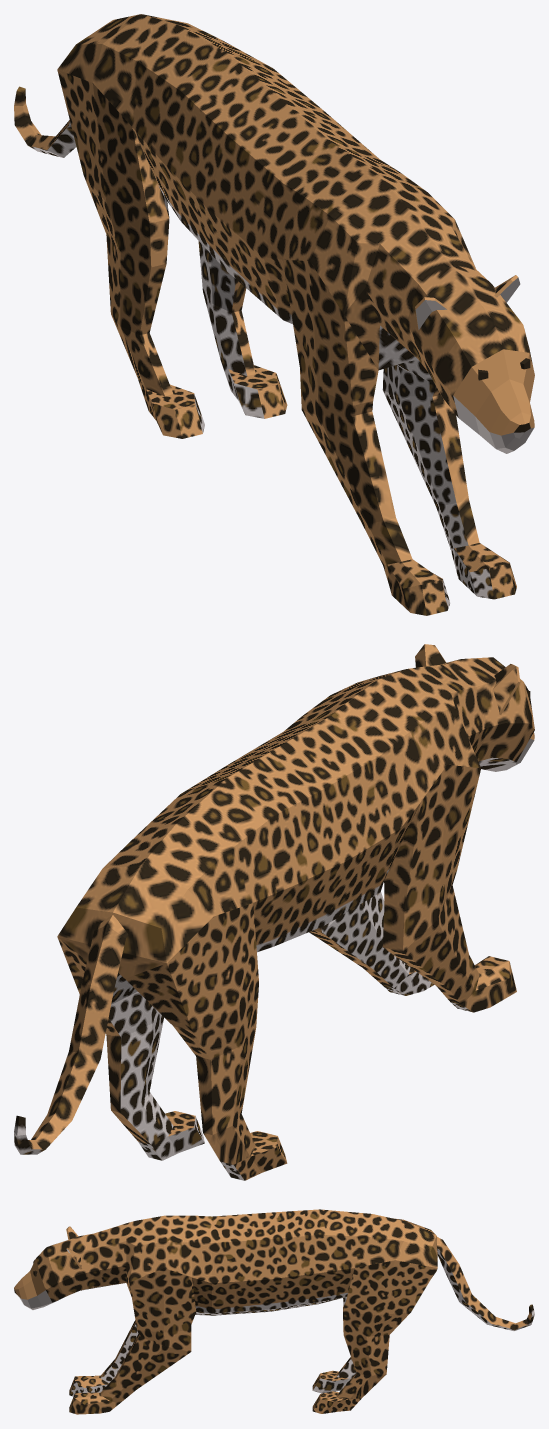
Rendered from Jaguar.glb.
3 renders of one model, top to bottom at view 1: azimuth 30°, elevation 25°; view 2: azimuth 150°, elevation 25°; view 3: azimuth 270°, elevation 25°, orthographic. The views are drawn at different scales.
Parts seen in each view (by area): view 1: node-0; view 2: node-0; view 3: node-0.
Boxes of the visible parts, x1,y1,x2,y2 form: node-0: [14, 14, 534, 615]; node-0: [14, 644, 534, 1180]; node-0: [14, 1209, 534, 1414].
Bounding box in the file's own units: 0.1562 × 0.4062 × 1.
Materials: 1 (1 with a texture image).
